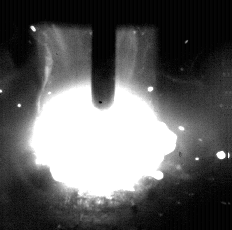arame: (92, 0, 117, 110)
poca: (29, 0, 176, 230)
